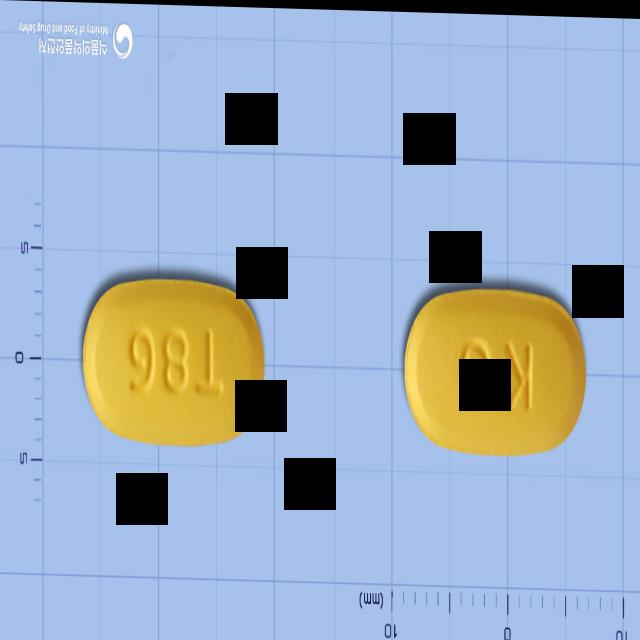Clarin: (400, 277, 589, 459), (80, 268, 265, 453)
